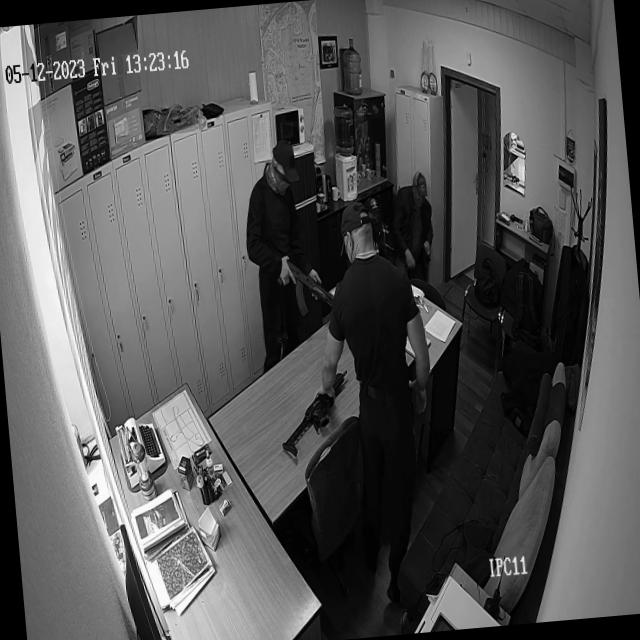gun: (278, 361, 354, 480), (272, 240, 339, 312)
person: (388, 161, 448, 291)
person with a gun: (322, 203, 456, 504), (238, 125, 328, 332)
